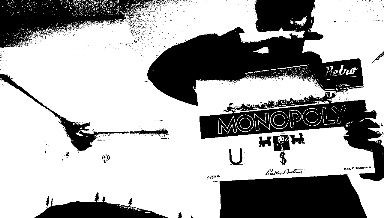U: (224, 148, 244, 165)
